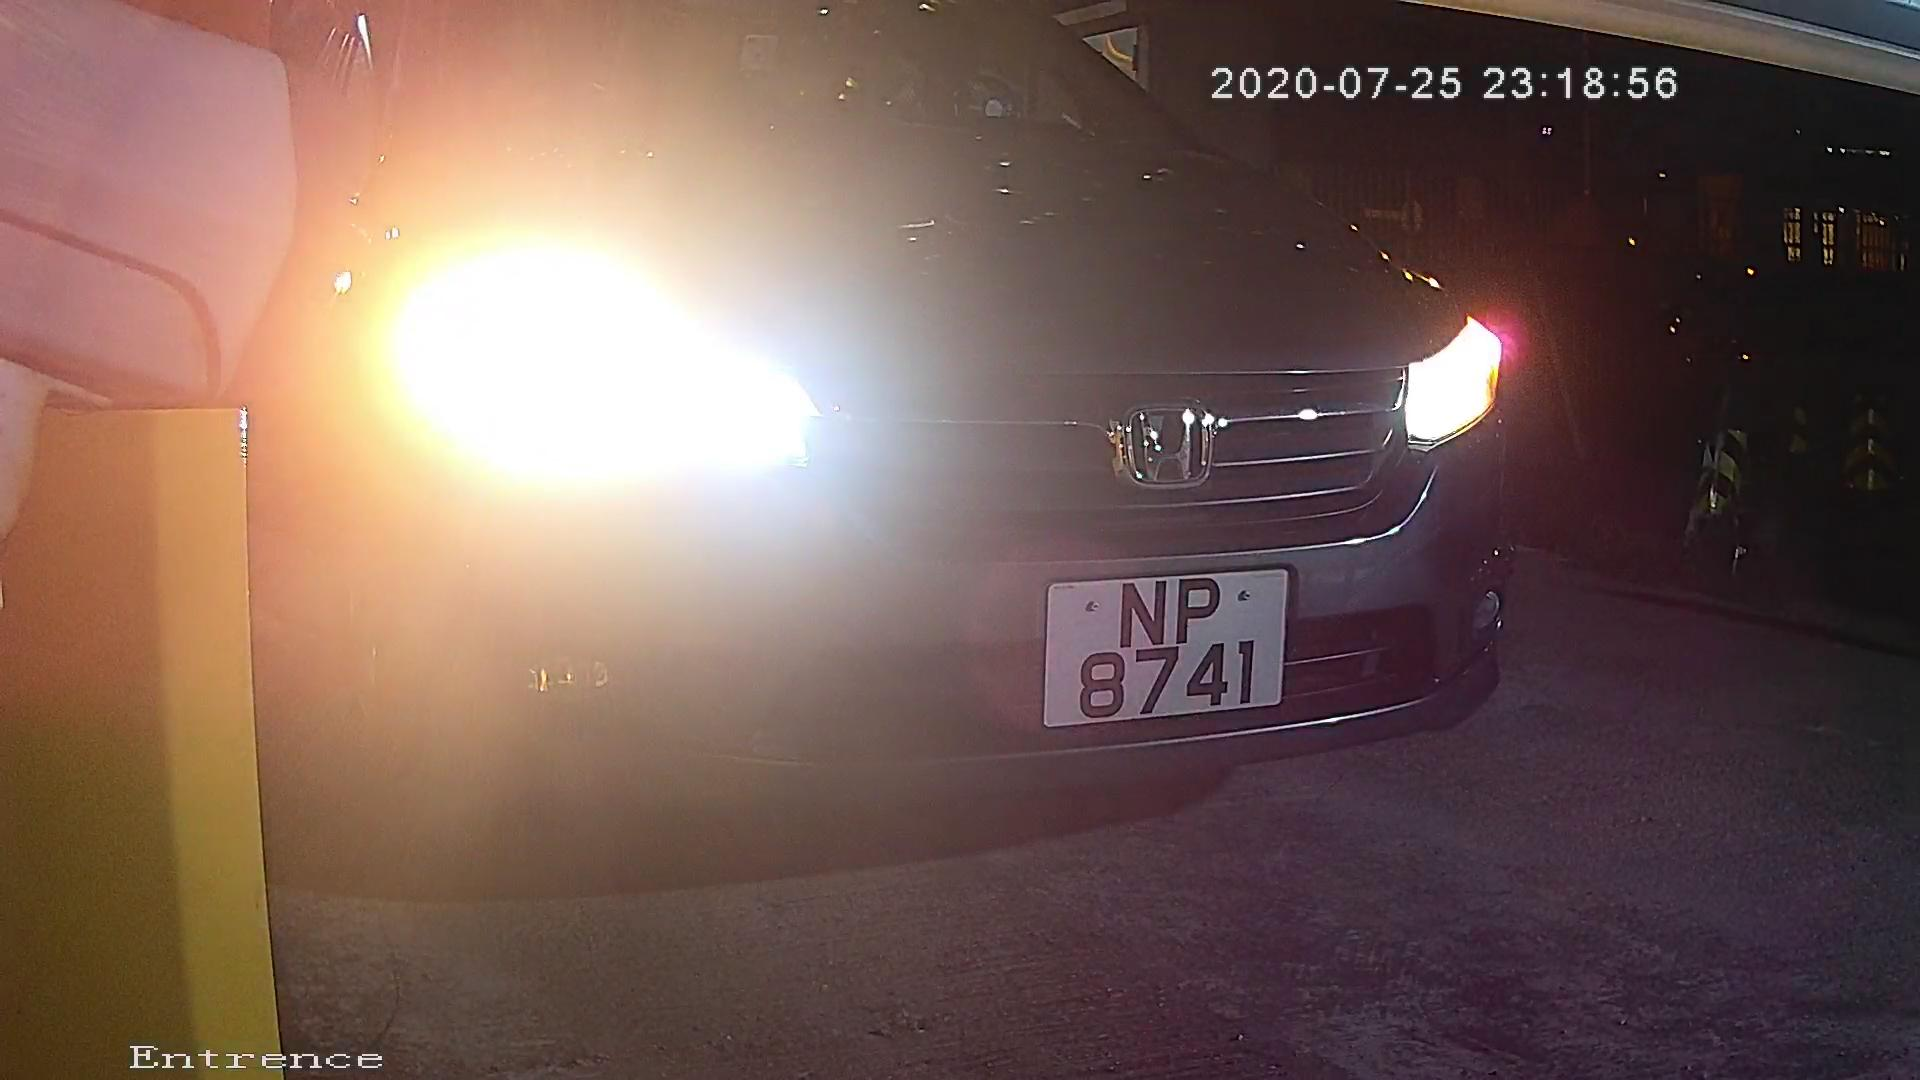Car: (61, 25, 1672, 931)
License Plate: (995, 545, 1321, 748)
